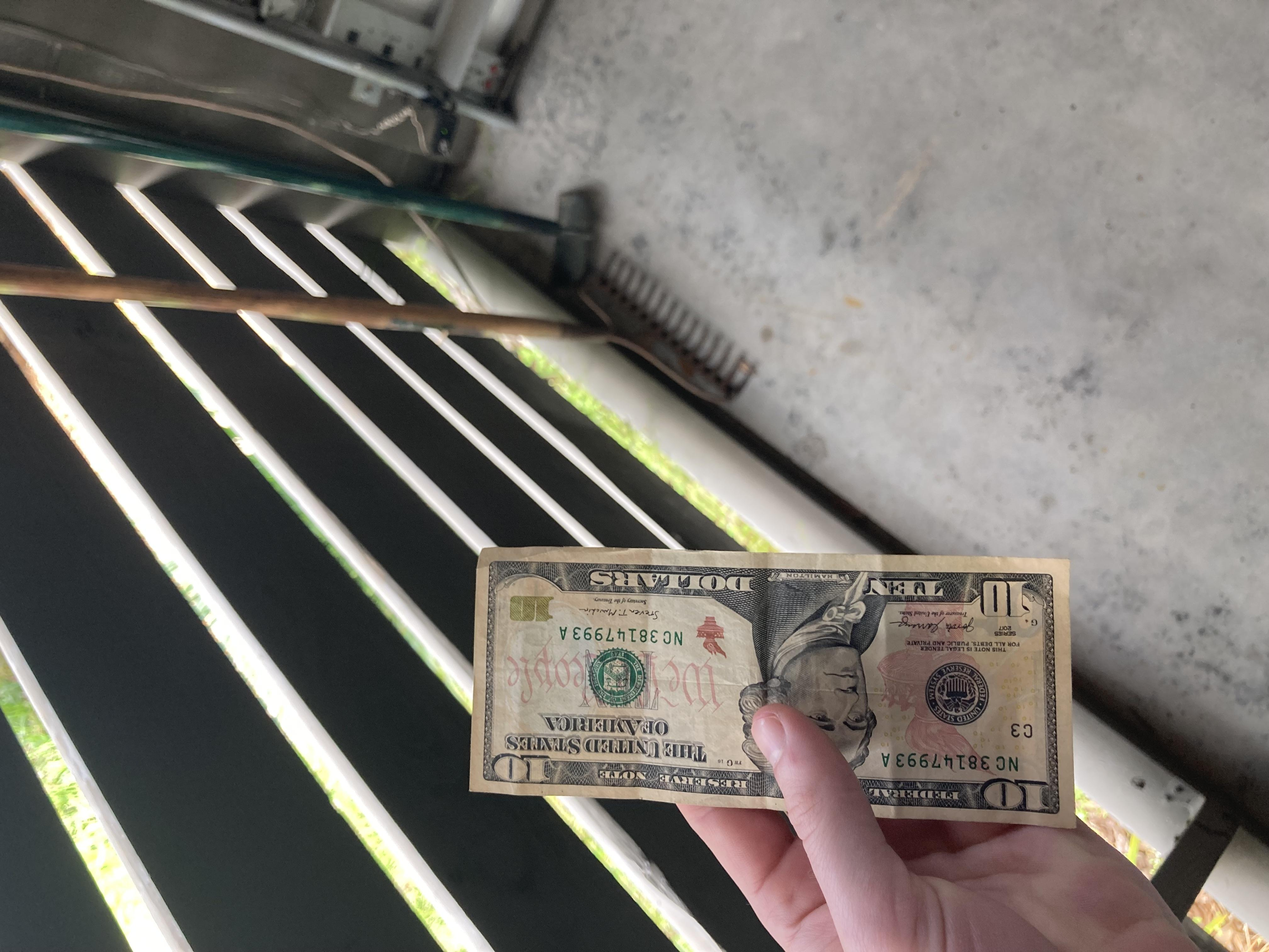ten-front: (164, 352, 540, 808)
